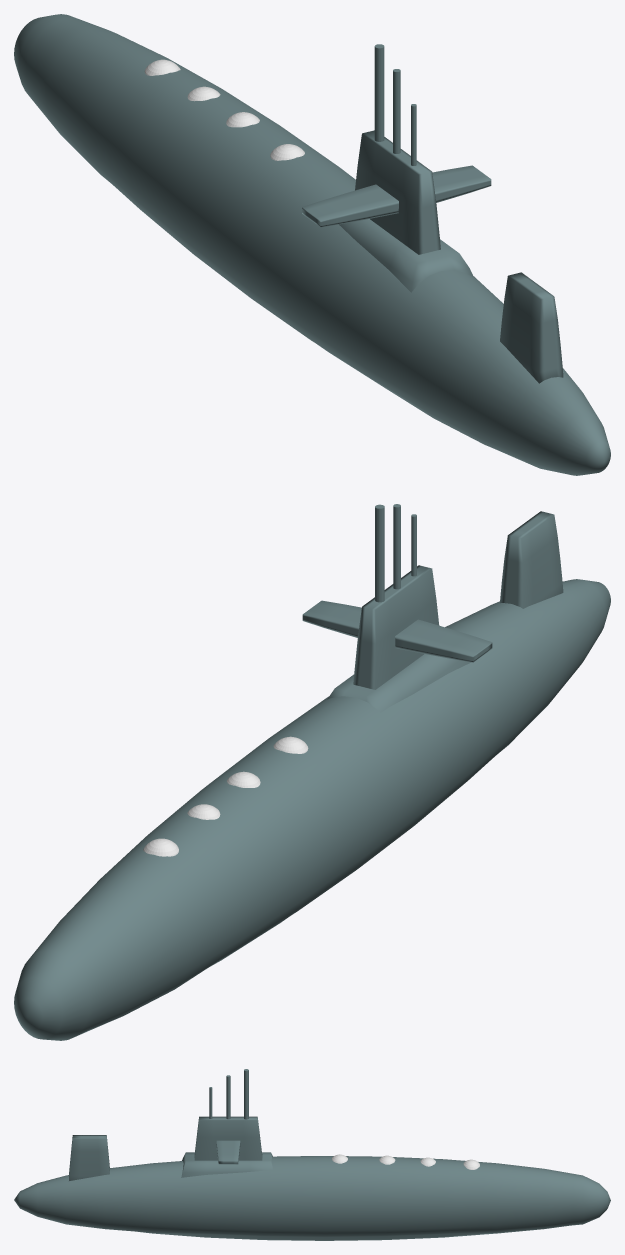
Rendered from missile-submarine.glb.
3 renders of one model, top to bottom at view 1: azimuth 30°, elevation 25°; view 2: azimuth 150°, elevation 25°; view 3: azimuth 270°, elevation 25°, orthographic. The views are drawn at different scales.
Visible parts, largest first — view 1: Sphere, Cube.001, Cube.004, Cube, Cube.002, Cube.003, Cylinder, Cylinder.001; view 2: Sphere, Cube.001, Cube.004, Cube, Cube.002, Cube.003, Cylinder; view 3: Sphere, Cube.001, Cube.004, Cube, Cube.003, Cylinder.
Boxes of the visible parts, x1,y1,x2,y2 form: Sphere: (14, 14, 610, 475); Cube.001: (355, 130, 440, 254); Cube.004: (500, 272, 563, 383); Cube: (339, 219, 473, 292); Cube.002: (302, 184, 398, 227); Cube.003: (432, 165, 491, 202); Cylinder: (374, 44, 384, 141); Cylinder.001: (393, 69, 400, 153); Sphere: (14, 579, 610, 1040); Cube.001: (353, 565, 439, 689); Cube.004: (500, 511, 563, 608); Cube: (327, 654, 470, 712); Cube.002: (395, 619, 492, 662); Cube.003: (302, 600, 361, 637); Cylinder: (375, 504, 384, 602); Sphere: (14, 1156, 610, 1240); Cube.001: (194, 1116, 262, 1160); Cube.004: (69, 1135, 109, 1180); Cube: (181, 1152, 272, 1177); Cube.003: (216, 1140, 240, 1164); Cylinder: (244, 1069, 248, 1119).
Size of the model in its own units: 0.1707 by 0.3102 by 1.
